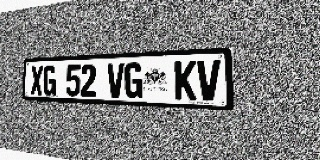2: (81, 64, 96, 97)
5: (66, 64, 81, 96)
G: (124, 62, 143, 99), (43, 65, 56, 96)
K: (175, 60, 196, 100)
V: (197, 60, 220, 101), (107, 63, 124, 98)
X: (31, 66, 43, 95)
